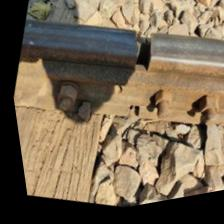person: (99, 15, 179, 95), (107, 94, 151, 136)
